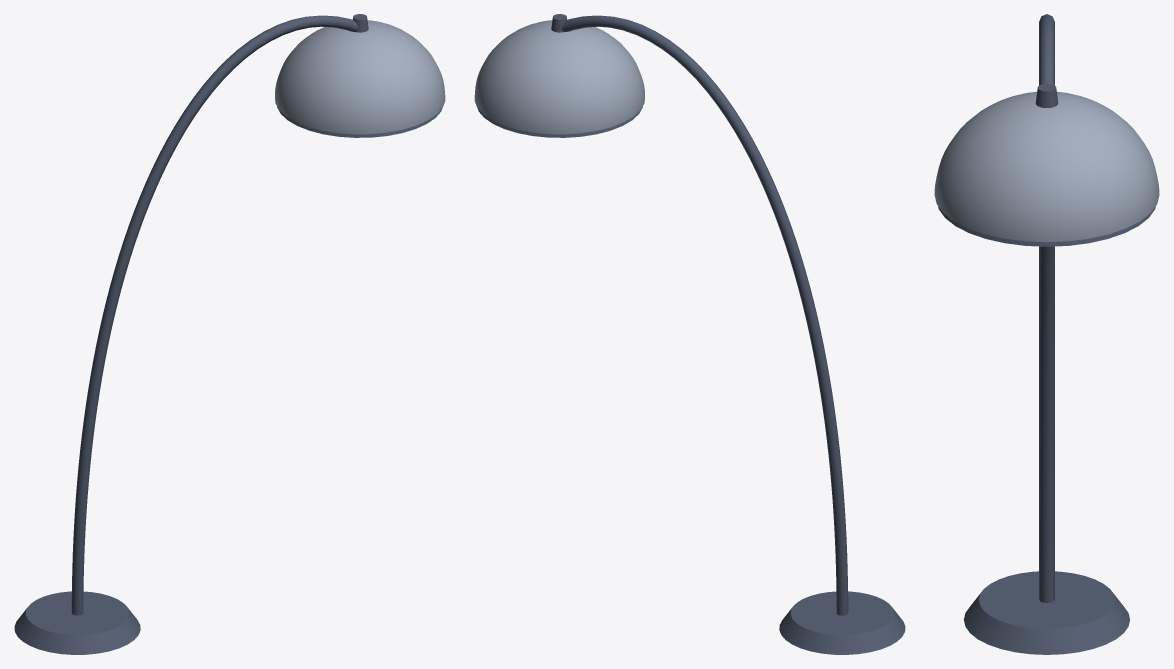
File: floorlamp.glb
3 renders of one model, left to right at view 1: azimuth 30°, elevation 25°; view 2: azimuth 150°, elevation 25°; view 3: azimuth 270°, elevation 25°, orthographic. The views are drawn at different scales.
Visible parts, largest first — view 1: floorlamp; view 2: floorlamp; view 3: floorlamp.
Boxes of the visible parts, <box> form: floorlamp: <box>14,14,445,654</box>; floorlamp: <box>474,14,905,654</box>; floorlamp: <box>934,14,1159,654</box>.
Size of the model in its own units: 1.28 by 1.65 by 0.46.
